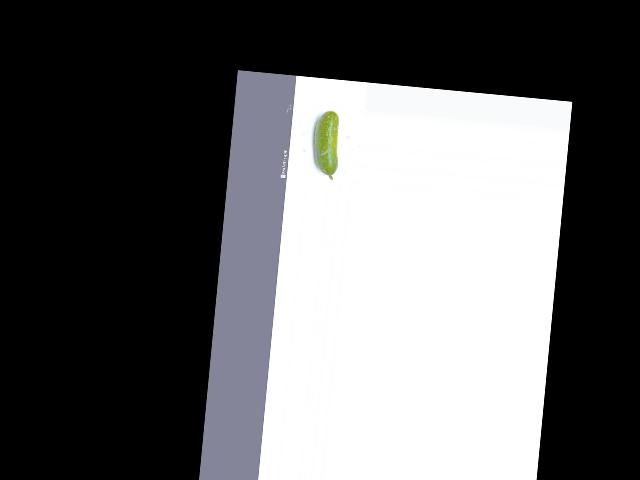cucumber: (310, 108, 342, 180)
